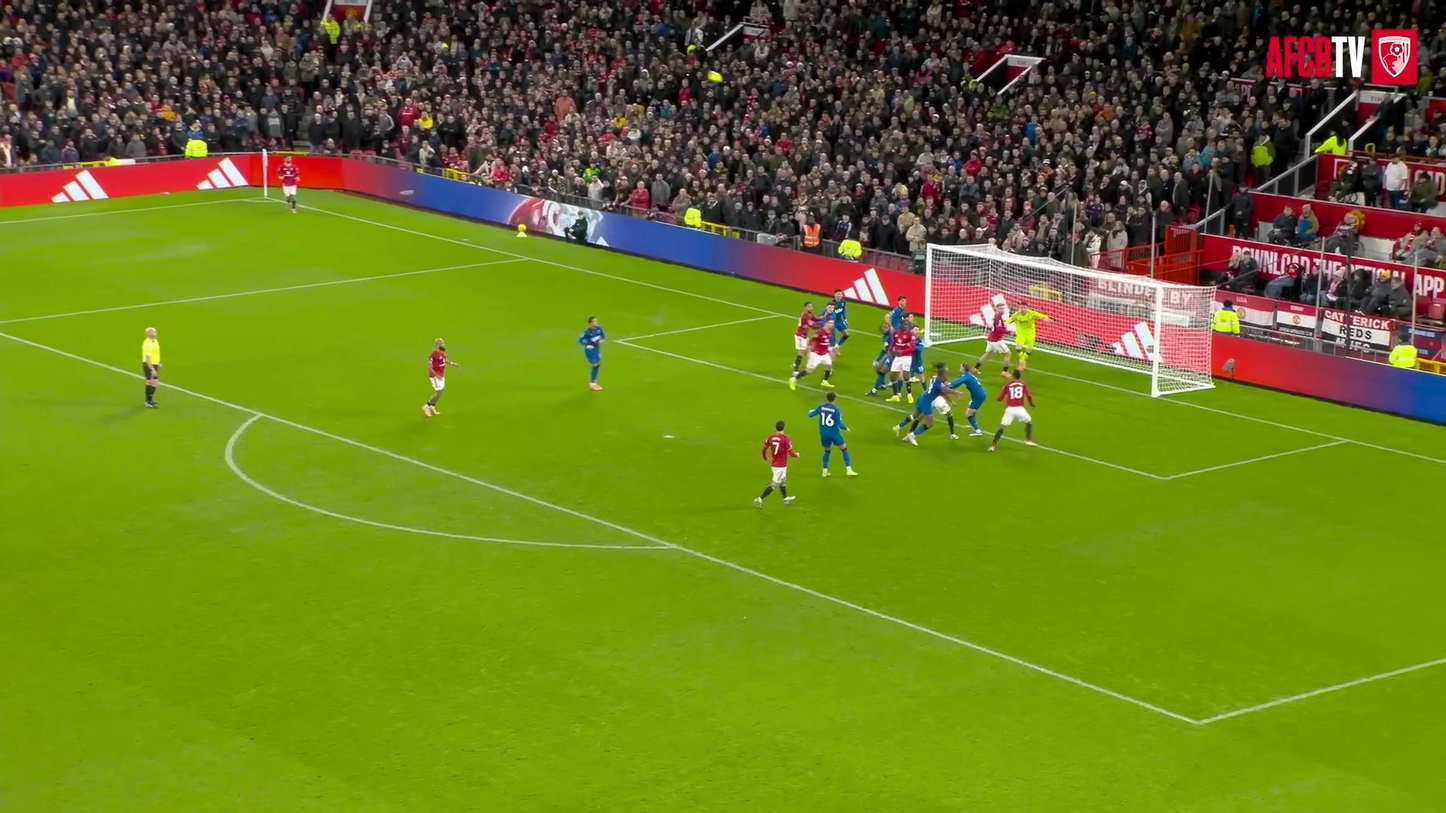player: (894, 362, 956, 445), (808, 393, 856, 477), (754, 420, 799, 507), (989, 368, 1036, 450), (788, 319, 834, 389), (1005, 301, 1048, 370), (423, 338, 459, 416), (886, 316, 918, 402), (950, 362, 987, 436), (973, 311, 1011, 372), (865, 318, 893, 394), (578, 317, 606, 390), (792, 302, 817, 372), (813, 300, 840, 355), (906, 316, 925, 382), (278, 157, 300, 213), (829, 289, 849, 345), (888, 296, 908, 330), (909, 343, 923, 380)
referee: (142, 327, 160, 407)
